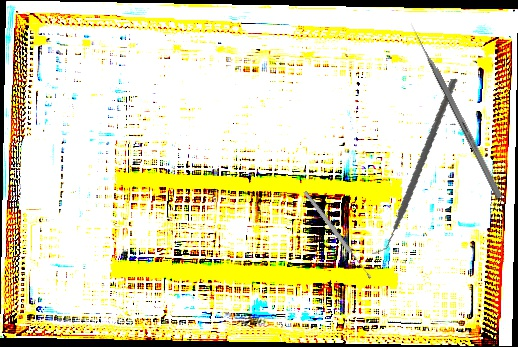Chopper: (342, 78, 485, 255)
Pusher: (408, 22, 503, 199)
Surgical Spoon: (302, 189, 373, 281)
